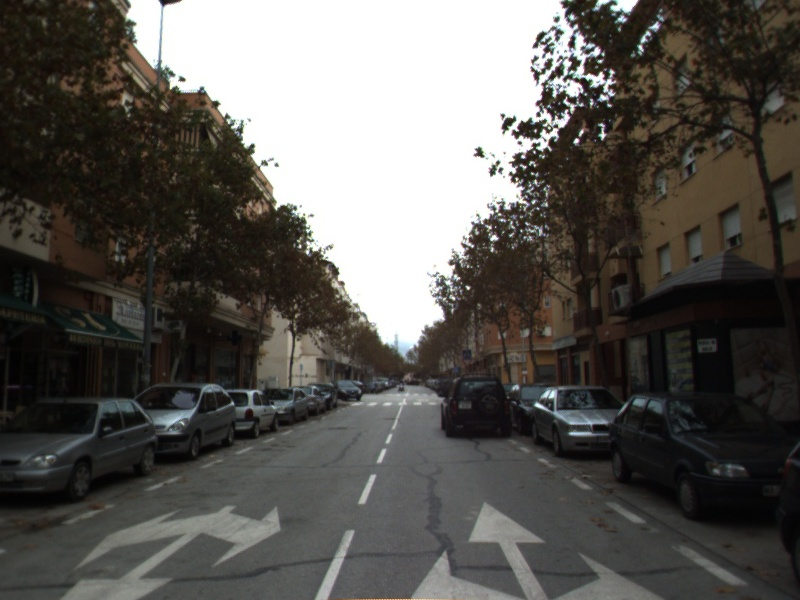STRAIGHT_LEFT_RIGHT: (404, 496, 671, 600)
